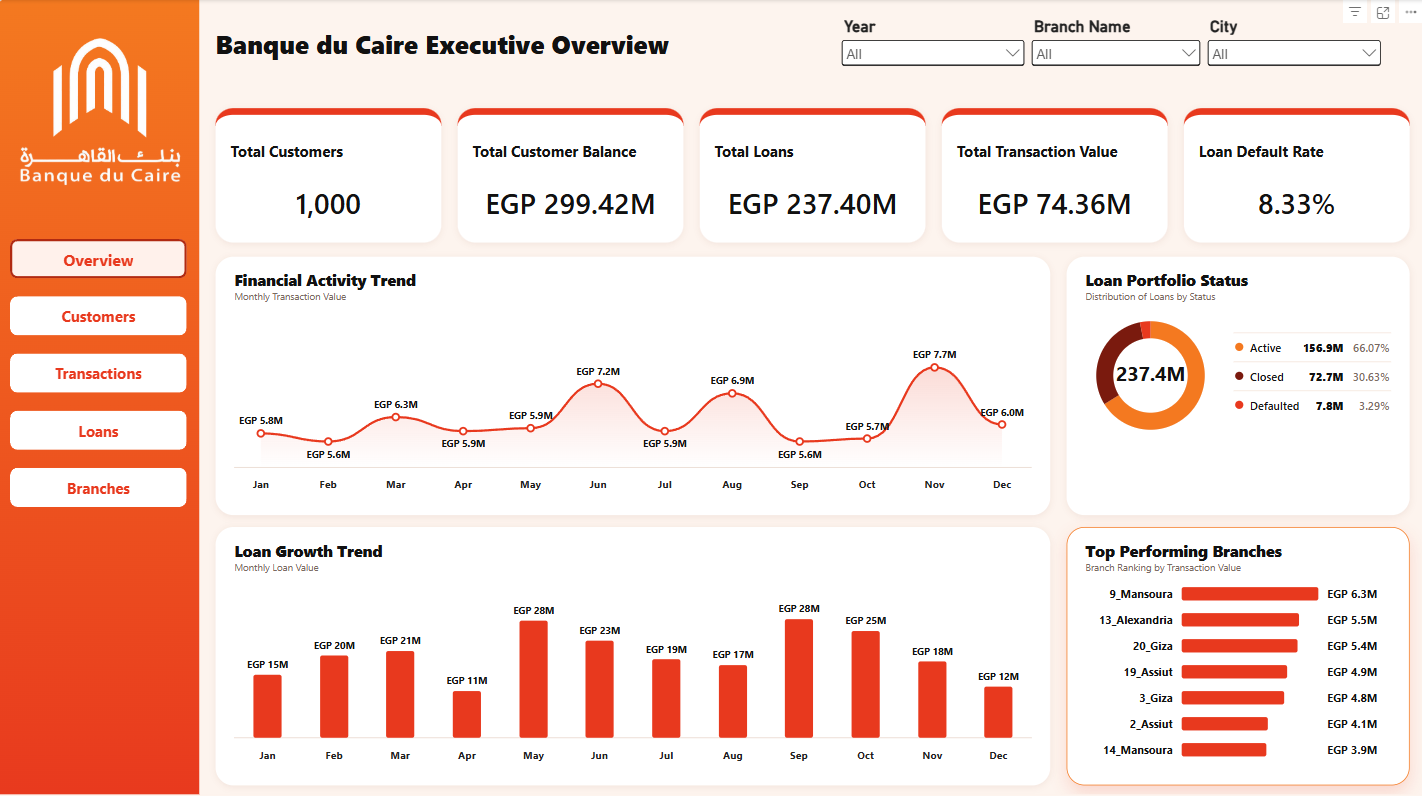

Layout of this report page (visuals, bound fields, positions):
{"tool":"powerbi","page":{"name":"Overview","canvas":[1920,1080],"ordinal":1},"visuals":[{"type":"htmlContent443BE3AD55E043BF878BED274D3A6855","fields":{"content":["Html.HTML Banque Overview"]},"box":[0,0,1920,1080],"z":0},{"type":"image","box":[38.4,0,195,240.5],"z":1000},{"type":"image","box":[0,162.5,255,131.2],"z":2000},{"type":"pageNavigator","box":[16.7,323.3,238.9,361.1],"z":3000},{"type":"slicer","fields":{"Values":["Branches Dim.City"]},"box":[1624.3,24.3,242.9,95.7],"z":4000},{"type":"slicer","fields":{"Values":["Branches Dim.Branch_Name_City"]},"box":[1387.1,24.3,237.1,95.7],"z":5000},{"type":"slicer","fields":{"Values":["Date Dim.Year"]},"box":[1131.4,24.3,255.7,95.7],"z":6000}]}

Visuals, with their boxes in screenshot pixels (x1, y1, x2, y2), scaled from the page's 1920x1080 canvas onto the 1422x796 screenshot:
htmlContent443BE3AD55E043BF878BED274D3A6855 - Html.HTML Banque Overview: (left=0, top=0, right=1421, bottom=795)
image: (left=28, top=0, right=173, bottom=177)
image: (left=0, top=120, right=189, bottom=216)
pageNavigator: (left=12, top=238, right=189, bottom=504)
slicer - Branches Dim.City: (left=1203, top=18, right=1383, bottom=88)
slicer - Branches Dim.Branch_Name_City: (left=1027, top=18, right=1203, bottom=88)
slicer - Date Dim.Year: (left=838, top=18, right=1027, bottom=88)
